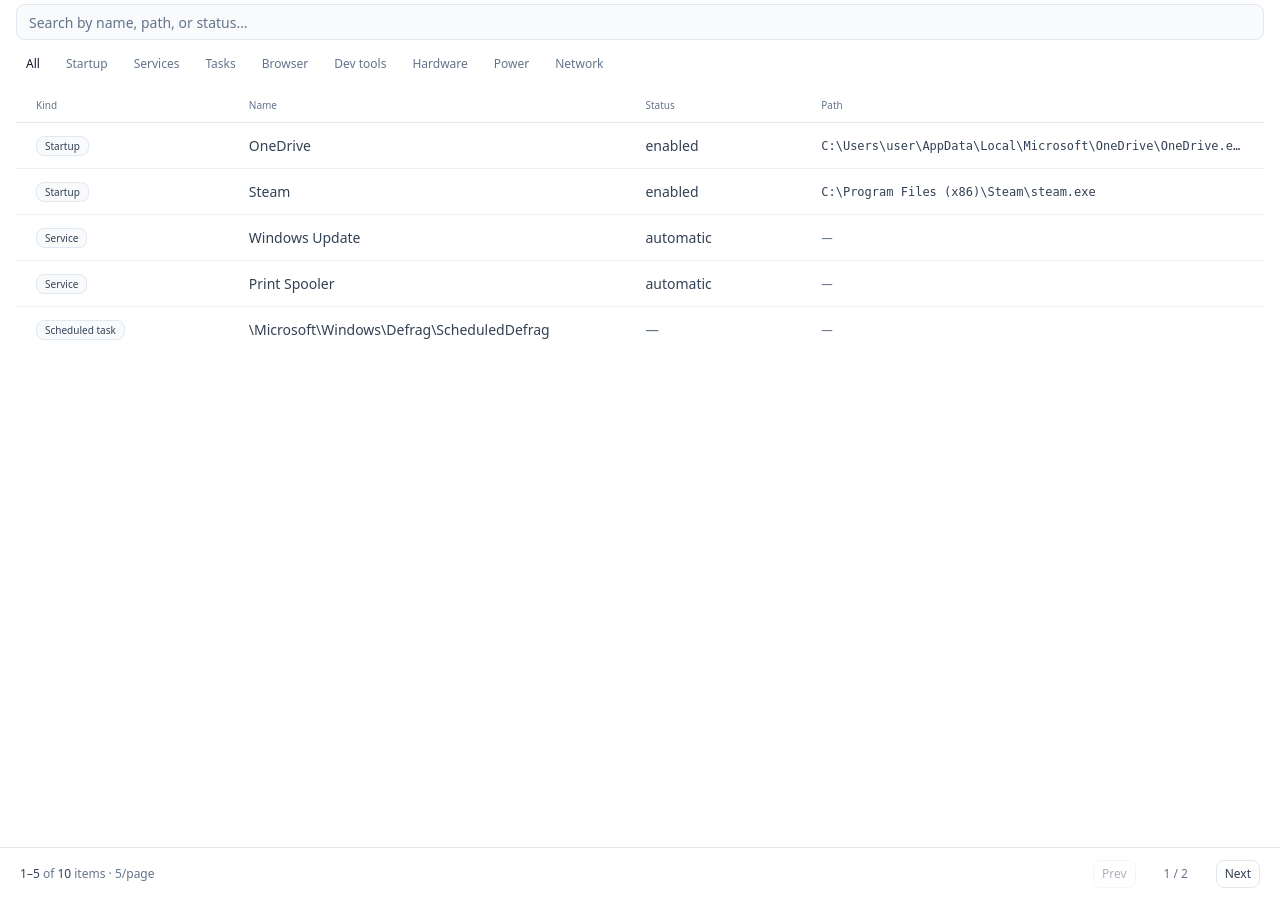
Scenario: ConfigItemsTable › combining kind filter and search narrows results
Click the button "Services" at (156, 64), box [124,52,189,76]
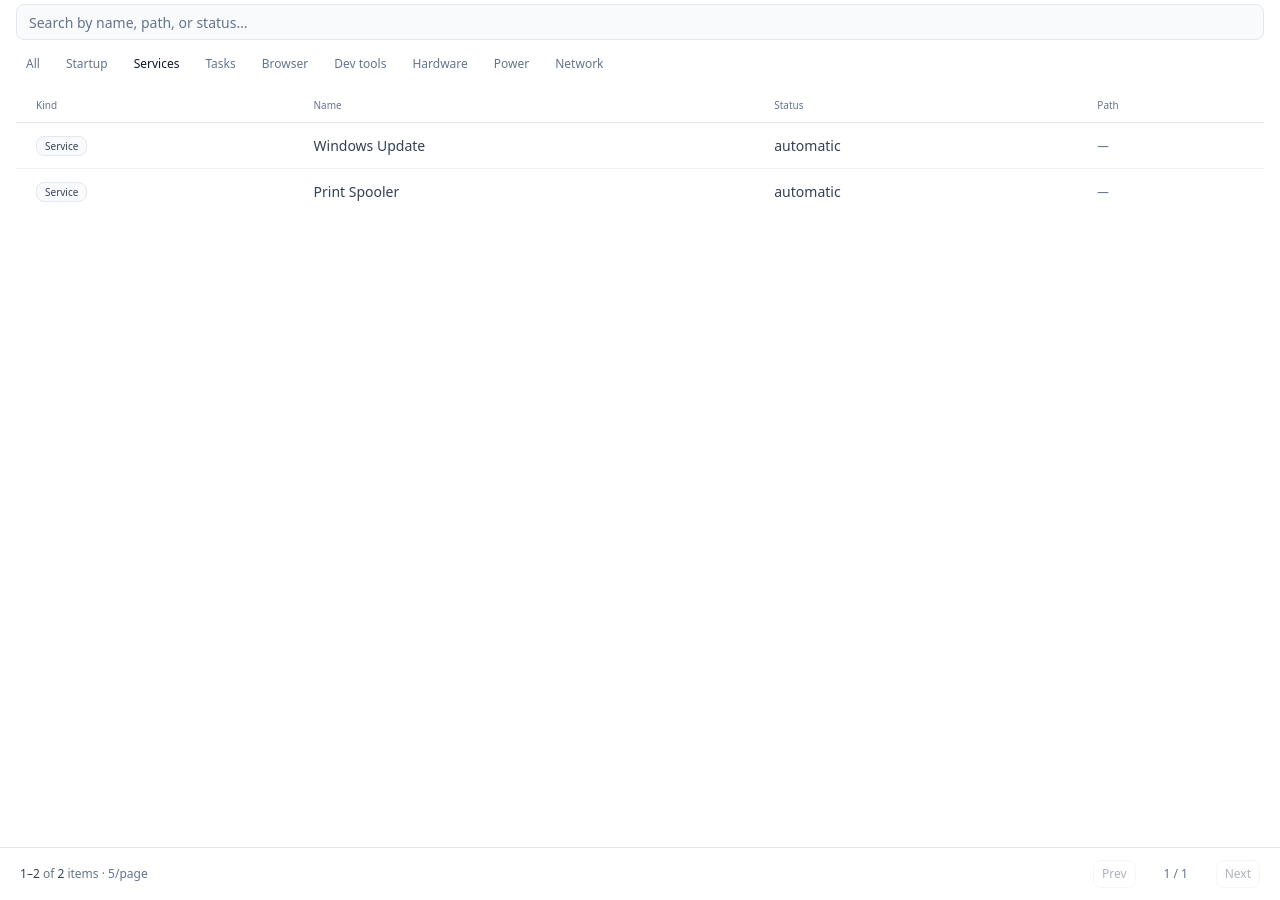
Type "print" into the search field named "search configuration items" at (640, 22), box [16,4,1264,40]
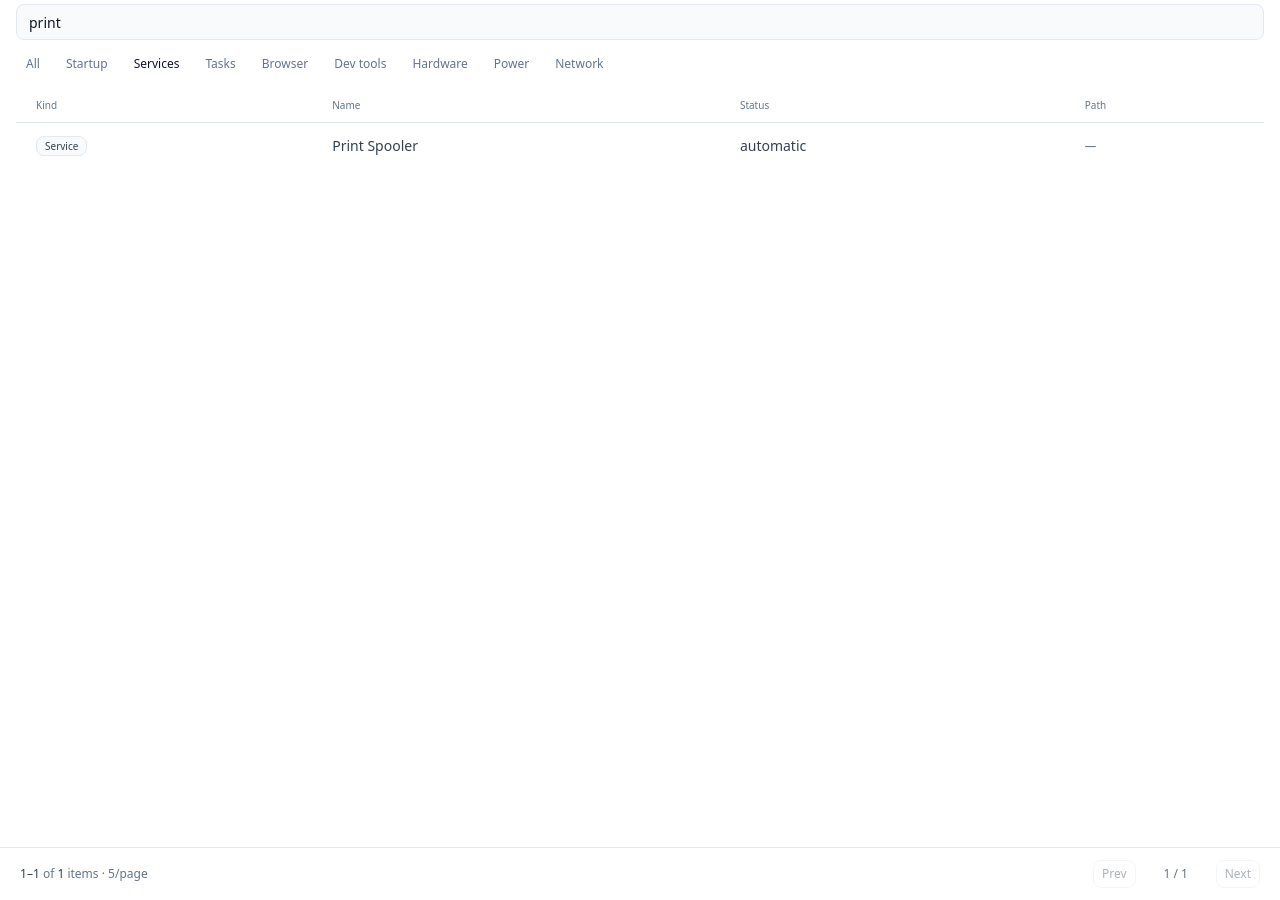
Expected: the text "Print Spooler" is shown, [312,122,720,168]
Result: the text "Windows Update" is gone
